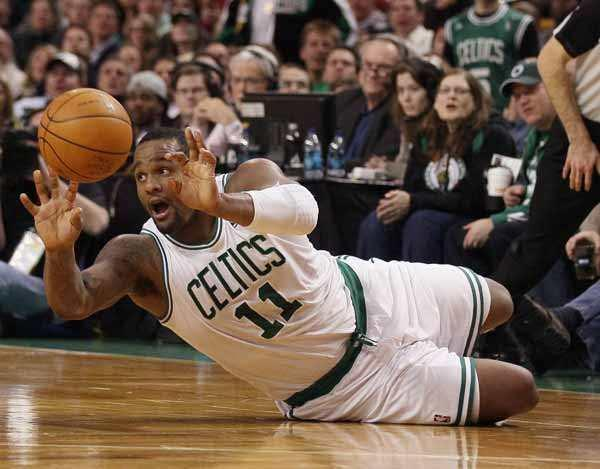down: (24, 123, 544, 435)
